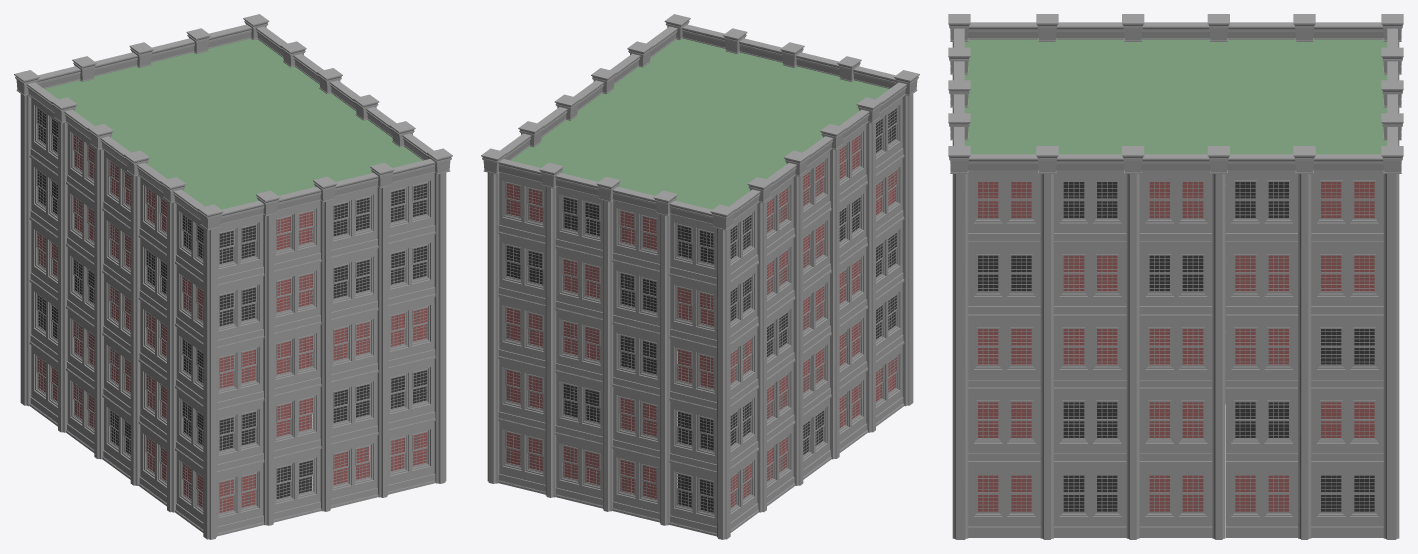
Rendered from SM_Building_04.fbx.
3 renders of one model, left to right at view 1: azimuth 30°, elevation 25°; view 2: azimuth 150°, elevation 25°; view 3: azimuth 270°, elevation 25°, orthographic. The views are drawn at different scales.
Parts seen in each view (by area): view 1: SM_Building_04; view 2: SM_Building_04; view 3: SM_Building_04.
Part boxes in pixels (bbox=[...]): SM_Building_04: bbox=[14, 14, 452, 539]; SM_Building_04: bbox=[481, 14, 919, 539]; SM_Building_04: bbox=[948, 14, 1403, 539].
Bounding box in the file's own units: 1215 × 1548 × 1654.
